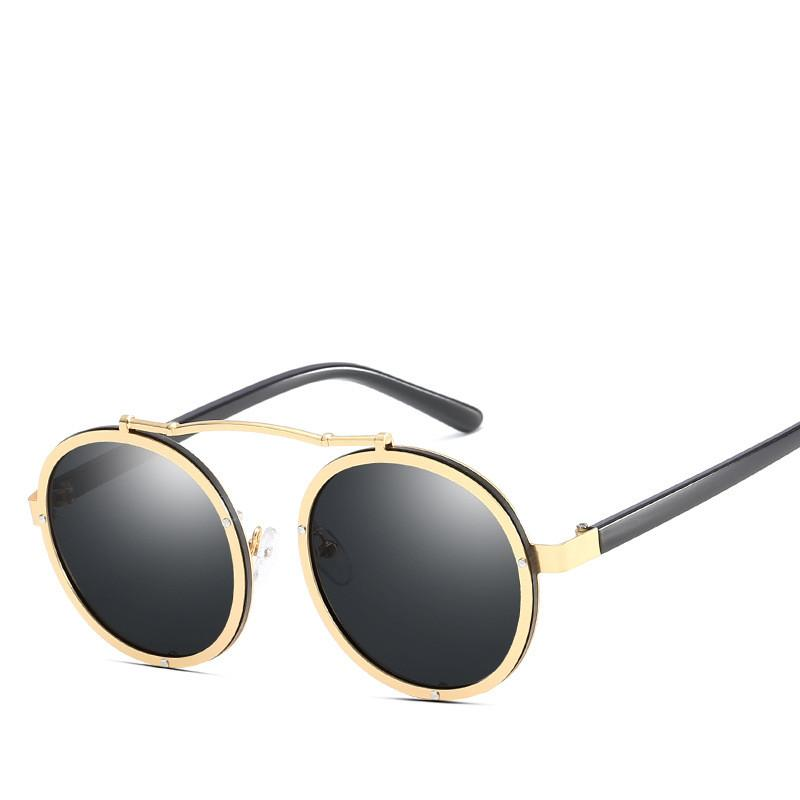sunglasses: (16, 410, 559, 719)
